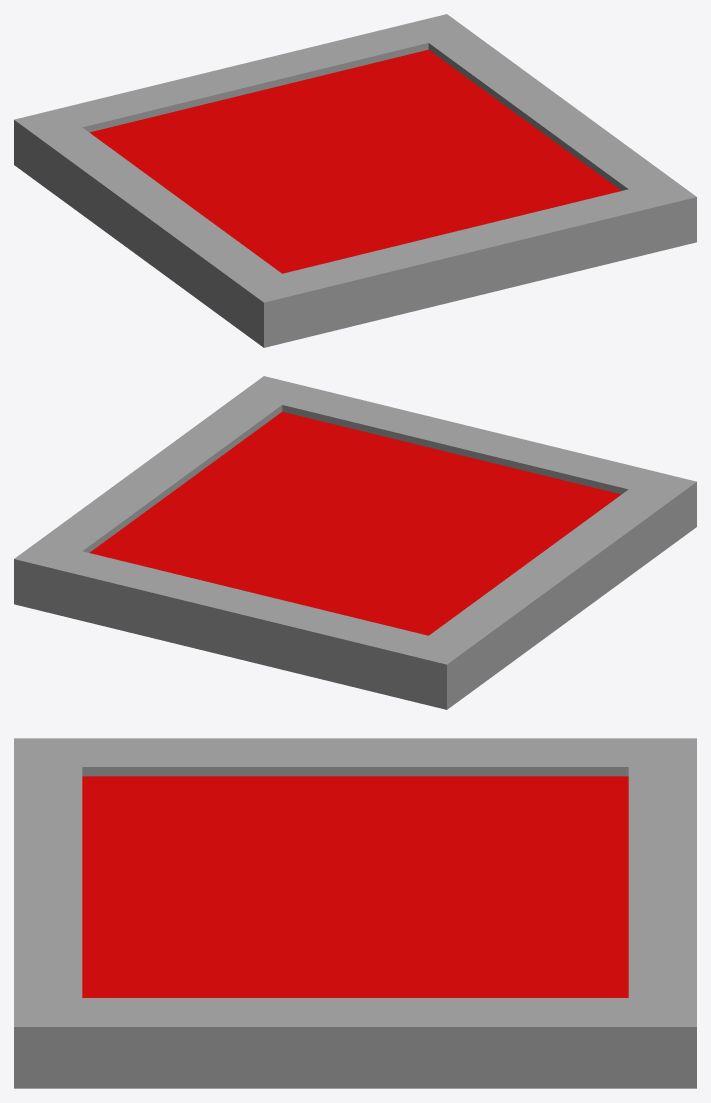
The model's file is IcePlatform.fbx.
The picture shows the model from 3 angles, top to bottom: view 1: azimuth 30°, elevation 25°; view 2: azimuth 150°, elevation 25°; view 3: azimuth 270°, elevation 25°; orthographic projection. The views are drawn at different scales.
Visible parts, largest first — view 1: polySurface1, polySurface2; view 2: polySurface1, polySurface2; view 3: polySurface2, polySurface1.
Part boxes in pixels (bbox=[...]): polySurface1: bbox=[14, 14, 696, 347]; polySurface2: bbox=[89, 49, 621, 273]; polySurface1: bbox=[14, 376, 696, 709]; polySurface2: bbox=[89, 411, 621, 635]; polySurface2: bbox=[82, 776, 628, 997]; polySurface1: bbox=[14, 738, 696, 1088].
Bounding box in the file's own units: 10 × 1 × 10.
